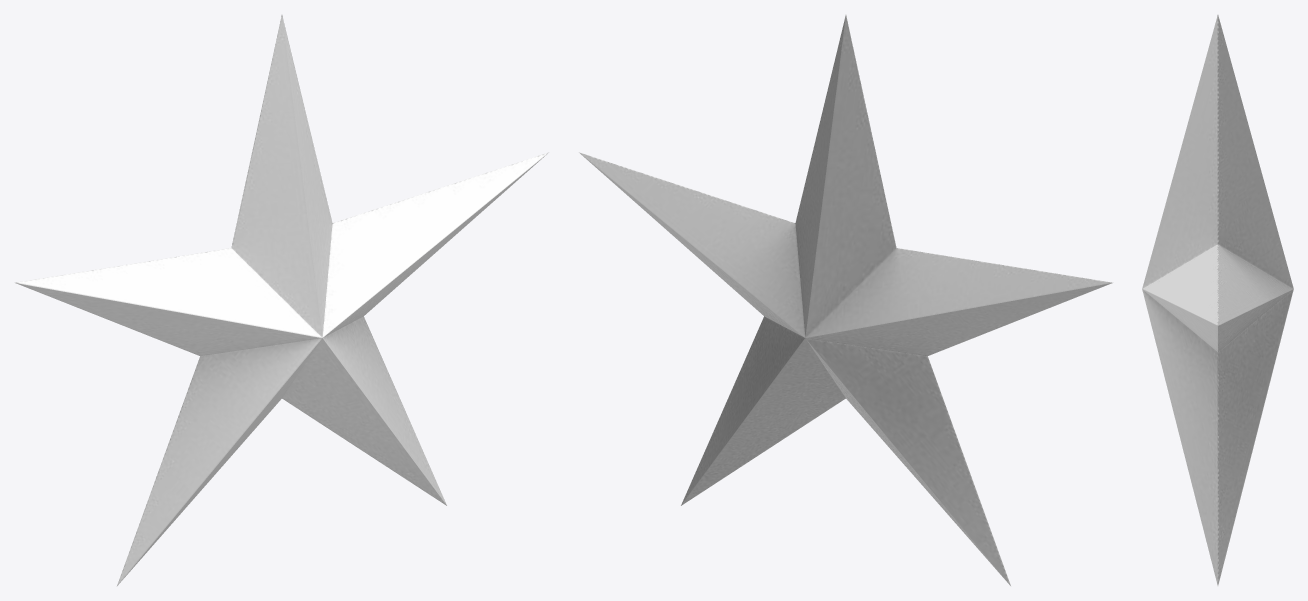
Rendered from star_uncompressed.glb.
3 renders of one model, left to right at view 1: azimuth 30°, elevation 25°; view 2: azimuth 150°, elevation 25°; view 3: azimuth 270°, elevation 25°, orthographic. The views are drawn at different scales.
Parts seen in each view (by area): view 1: star; view 2: star; view 3: star.
Part boxes in pixels (x1,y1,x2,y2): star: (15,15,548,585); star: (579,15,1112,585); star: (1142,15,1293,585).
Size of the model in its own units: 1.9 by 1.81 by 0.5.
1 material, 1 textured.
